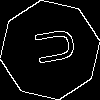U: (25, 25, 77, 69)
